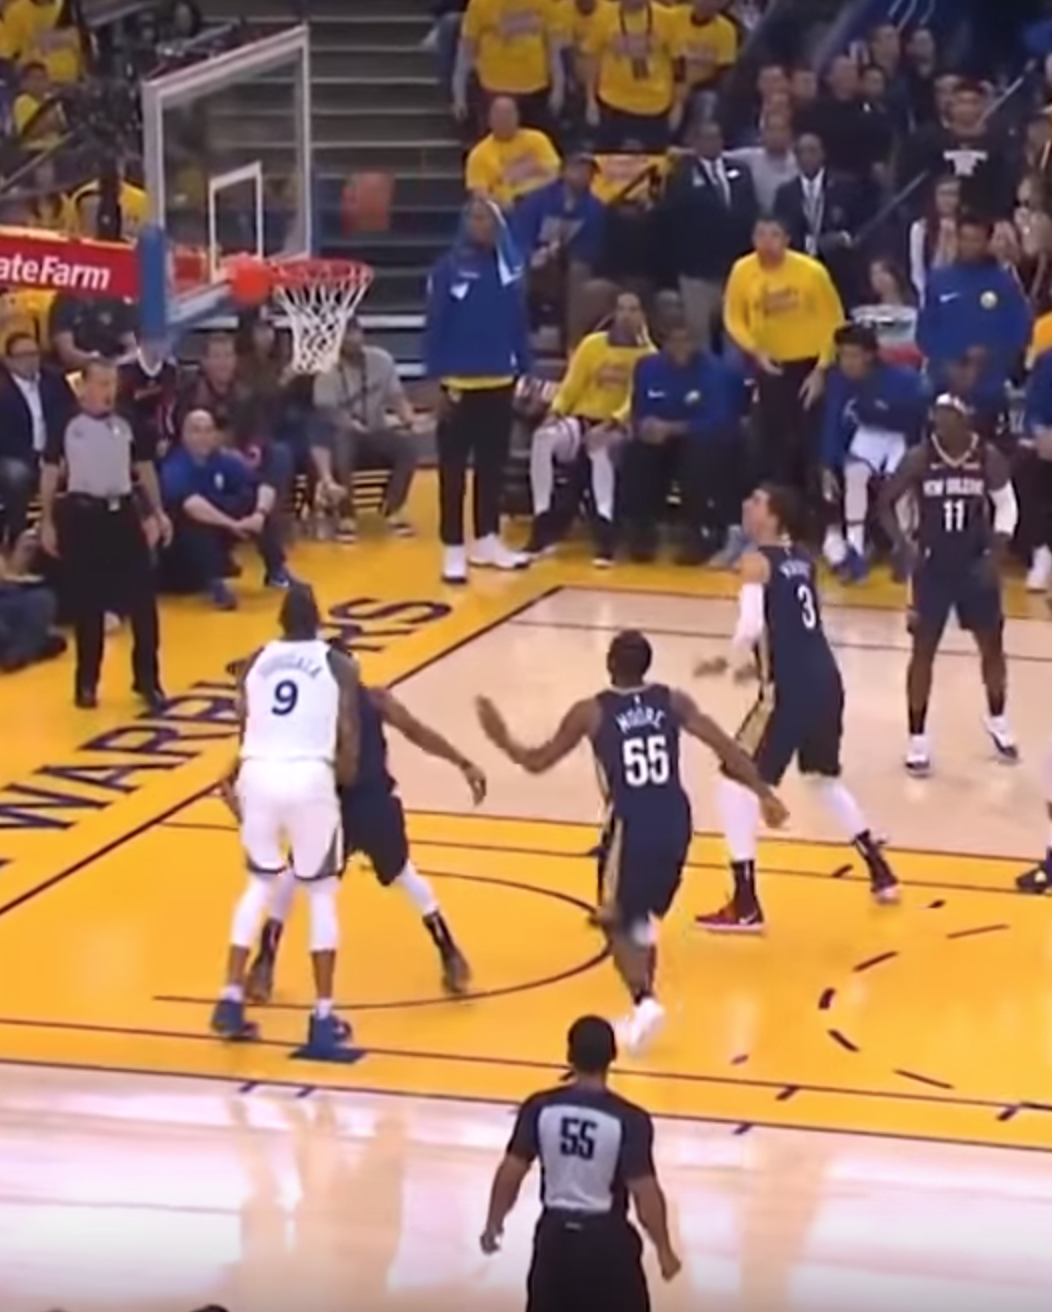basketball: (336, 168, 404, 236)
basketball player: (698, 481, 907, 948), (466, 635, 718, 1001), (215, 584, 376, 1072), (873, 387, 1024, 783)
